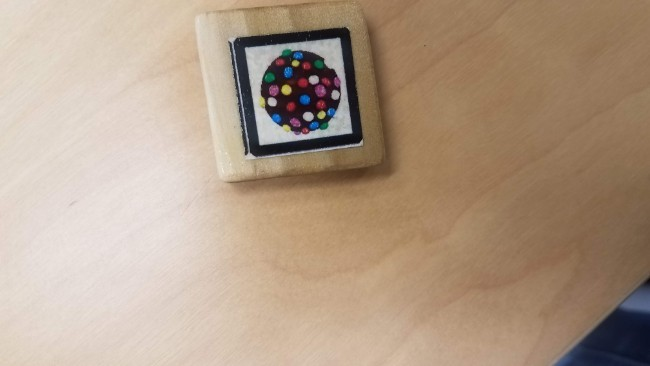cookie: (216, 20, 375, 168)
